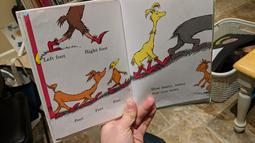text block: (147, 80, 189, 95), (42, 54, 73, 63), (86, 44, 112, 54), (68, 114, 90, 125), (109, 95, 128, 106), (92, 104, 106, 114)
